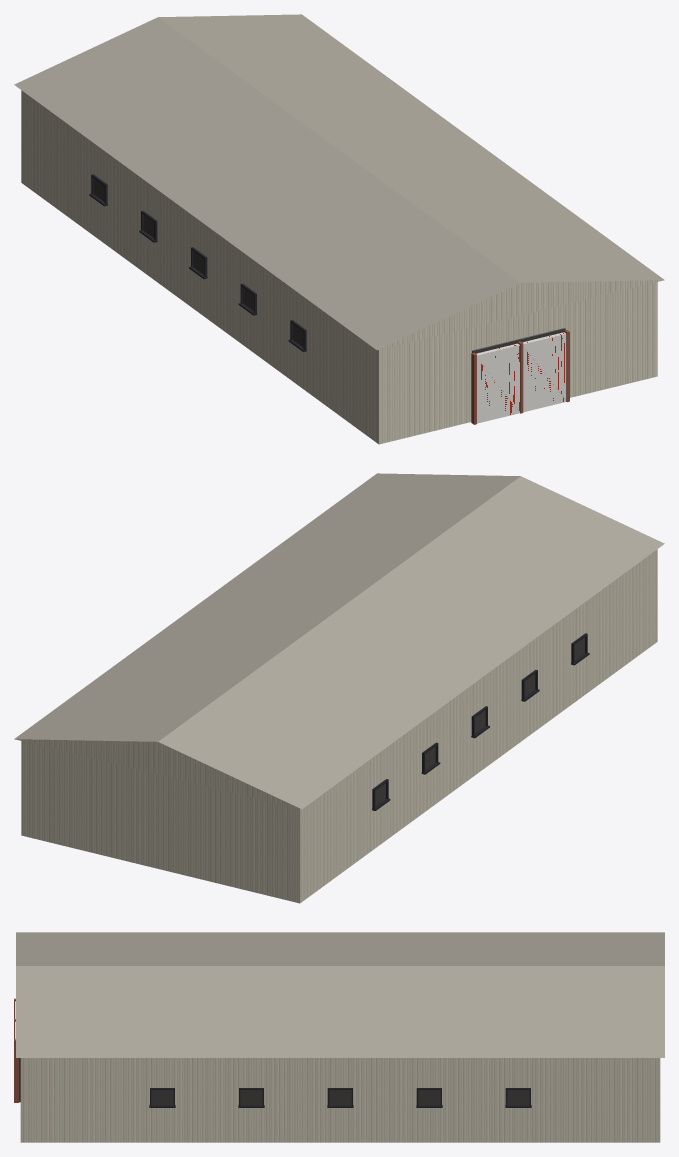
The model's file is cyxd_north_outbuilding.gltf.
3 renders of one model, top to bottom at view 1: azimuth 30°, elevation 25°; view 2: azimuth 150°, elevation 25°; view 3: azimuth 270°, elevation 25°, orthographic. The views are drawn at different scales.
Visible parts, largest first — view 1: cyxd_north_outbuilding; view 2: cyxd_north_outbuilding; view 3: cyxd_north_outbuilding.
Part boxes in pixels (x1,y1,x2,y2): cyxd_north_outbuilding: [14, 14, 664, 444]; cyxd_north_outbuilding: [14, 473, 664, 903]; cyxd_north_outbuilding: [14, 932, 664, 1142].
Bounding box in the file's own units: 18.6 × 8 × 40.72.
